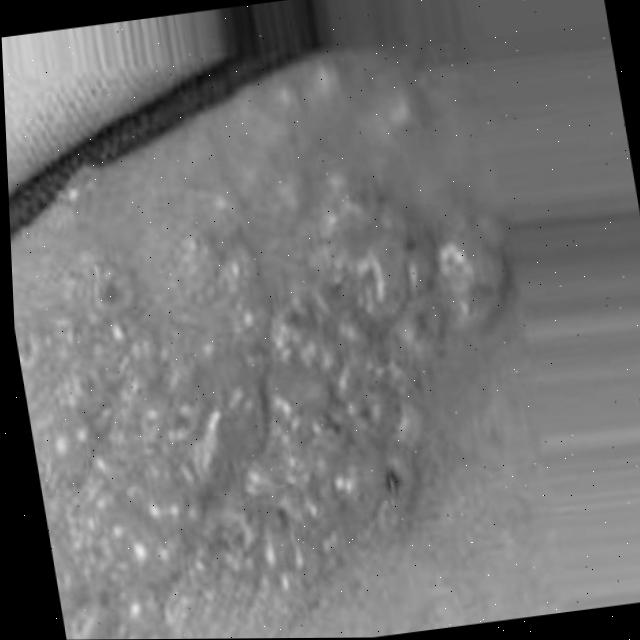Shingles: (8, 180, 559, 640)
